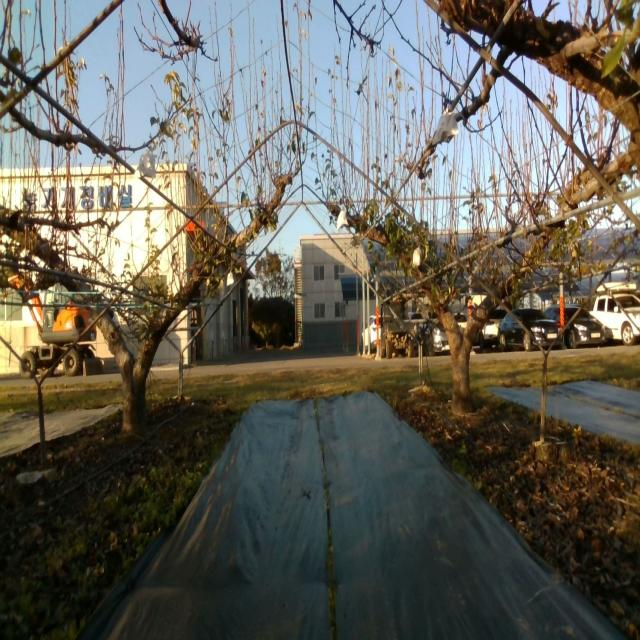pearbags: (430, 107, 460, 148), (135, 146, 157, 180), (336, 210, 349, 232)
